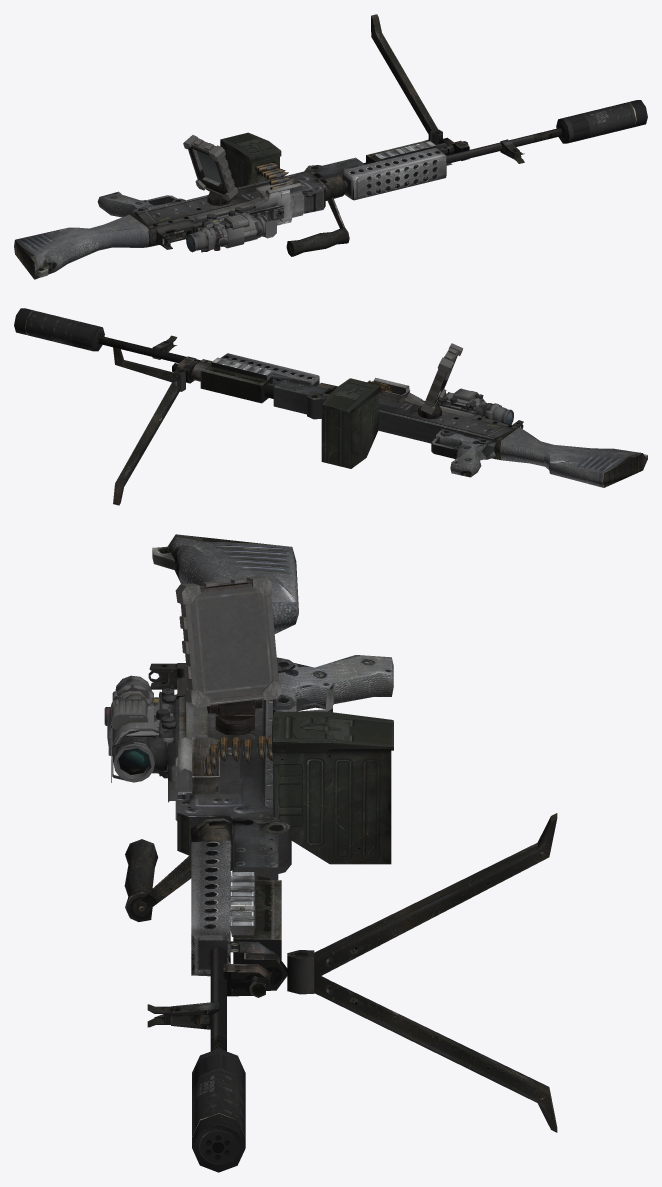
Rendered from weapon_m240_red_tiger_LOD0.obj.
3 views of the same model, one above another, from view 1: azimuth 30°, elevation 25°; view 2: azimuth 150°, elevation 25°; view 3: azimuth 270°, elevation 25° (orthographic). The views are drawn at different scales.
Parts seen in each view (by area): view 1: mtl_weapon_m240_red_tiger, mtl_weapon_suppressor_b, mtl_weapon_motion_tracker_red_tiger, mtl_weapon_mg_handle, mtl_weapon_thermal_sight_2_red_tiger, mtl_weapon_acog_2_red_tiger, mtl_weapon_eotech_2_red_tiger; view 2: mtl_weapon_m240_red_tiger, mtl_weapon_suppressor_b, mtl_weapon_motion_tracker_red_tiger, mtl_weapon_acog_2_red_tiger, mtl_weapon_thermal_sight_2_red_tiger; view 3: mtl_weapon_m240_red_tiger, mtl_weapon_motion_tracker_red_tiger, mtl_weapon_suppressor_b, mtl_weapon_mg_handle, mtl_weapon_thermal_sight_2_red_tiger, mtl_weapon_acog_2_red_tiger, mtl_weapon_eotech_2_red_tiger.
Boxes of the visible parts, x1,y1,x2,y2 form: mtl_weapon_m240_red_tiger: (14,14,562,279); mtl_weapon_suppressor_b: (556,100,647,143); mtl_weapon_motion_tracker_red_tiger: (183,135,238,205); mtl_weapon_mg_handle: (286,197,349,256); mtl_weapon_thermal_sight_2_red_tiger: (201,210,276,252); mtl_weapon_acog_2_red_tiger: (186,208,263,252); mtl_weapon_eotech_2_red_tiger: (208,211,254,248); mtl_weapon_m240_red_tiger: (98,335,647,505); mtl_weapon_suppressor_b: (14,308,104,351); mtl_weapon_motion_tracker_red_tiger: (418,343,462,419); mtl_weapon_acog_2_red_tiger: (436,392,513,424); mtl_weapon_thermal_sight_2_red_tiger: (444,388,494,418); mtl_weapon_m240_red_tiger: (147,534,557,1132); mtl_weapon_motion_tracker_red_tiger: (175,575,281,734); mtl_weapon_suppressor_b: (192,1048,245,1172); mtl_weapon_mg_handle: (124,839,191,921); mtl_weapon_thermal_sight_2_red_tiger: (108,685,169,782); mtl_weapon_acog_2_red_tiger: (104,675,176,771); mtl_weapon_eotech_2_red_tiger: (107,697,174,773).
Size of the model in its own units: 120 by 29.44 by 38.44.
